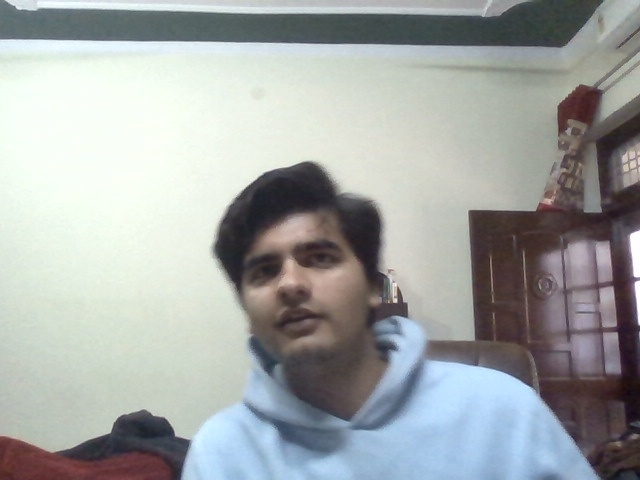surprise: (235, 245, 363, 355)
